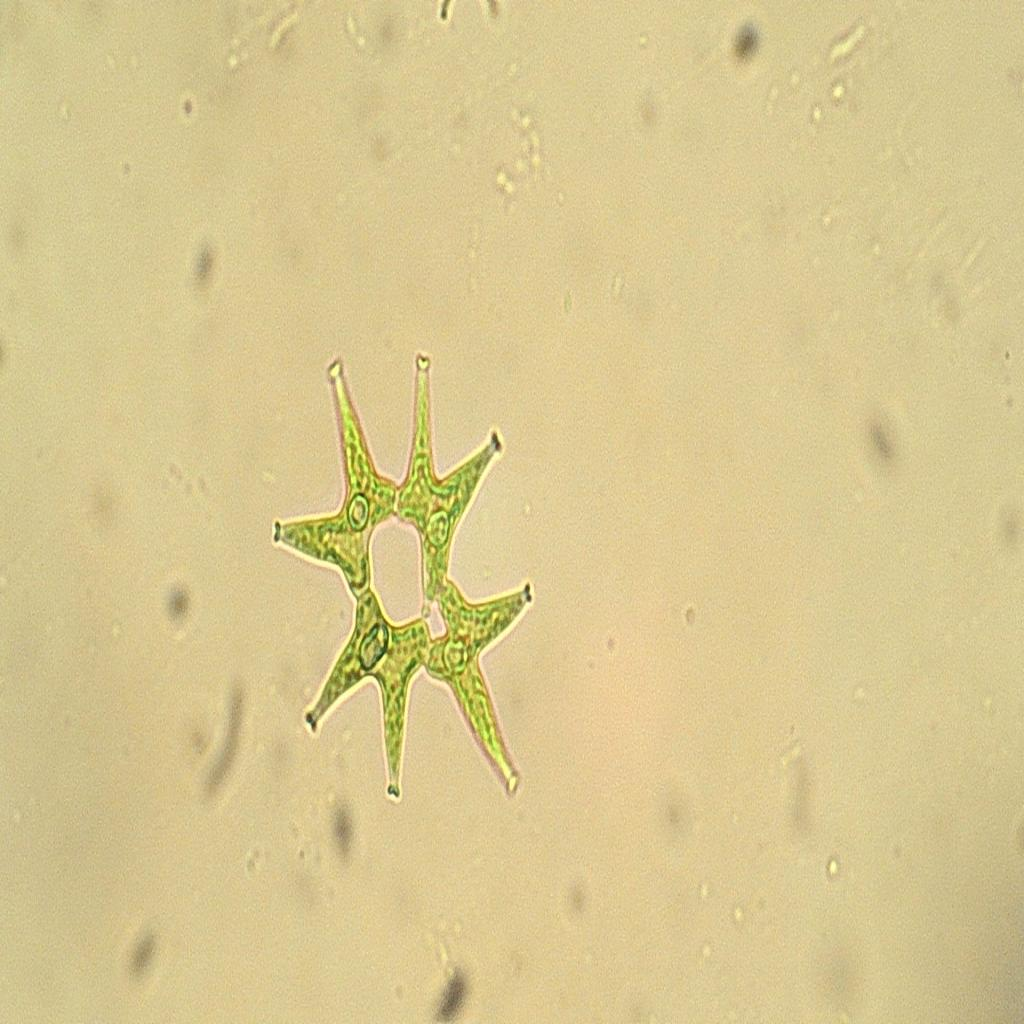Pediastrum_75FO: (266, 334, 550, 840)
